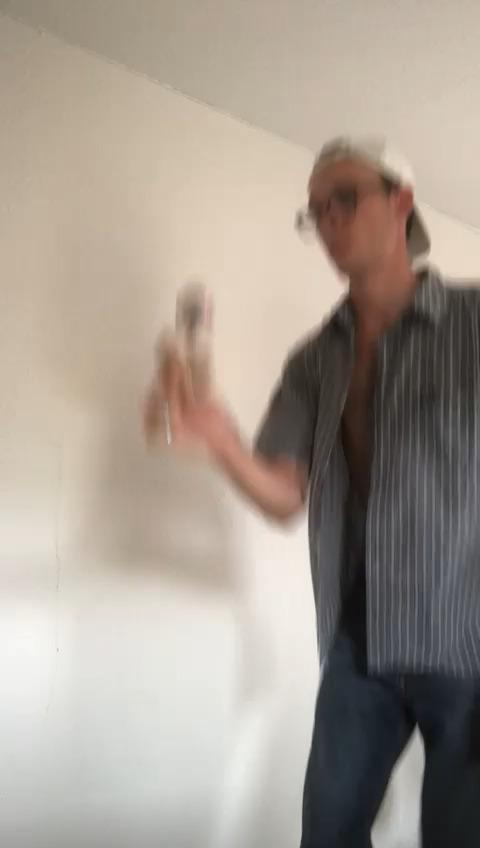kendama_ball: (176, 283, 214, 336)
